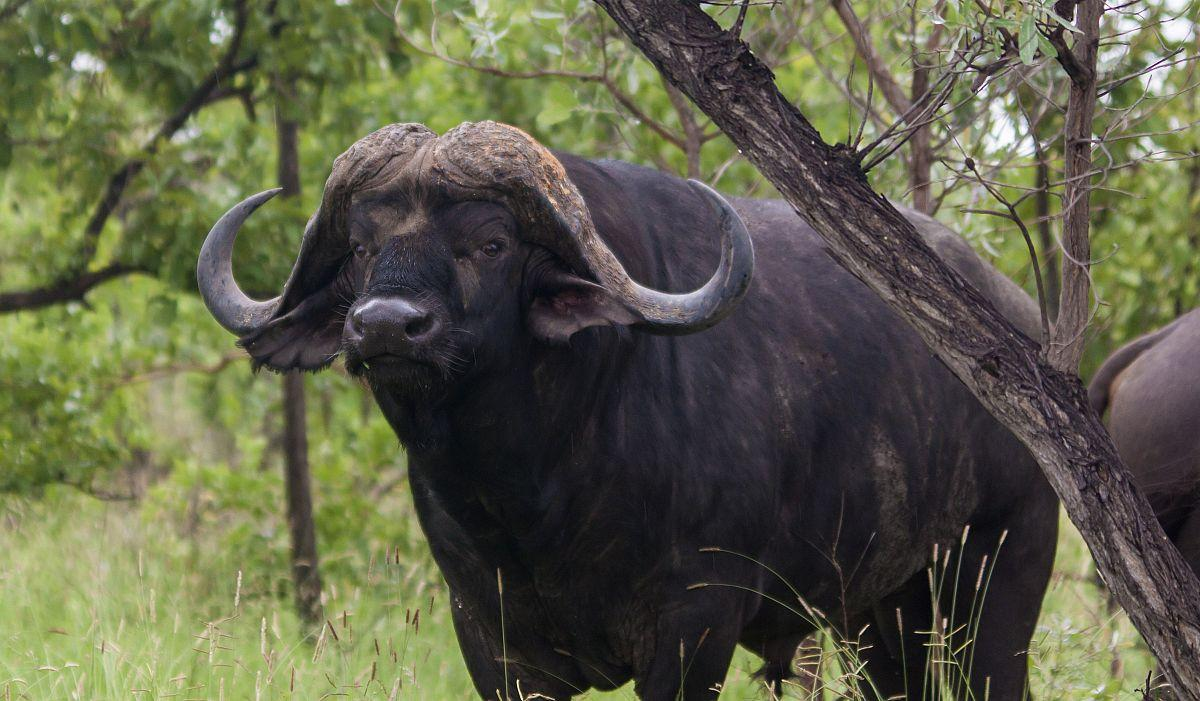Buffalo: (184, 109, 1069, 592)
